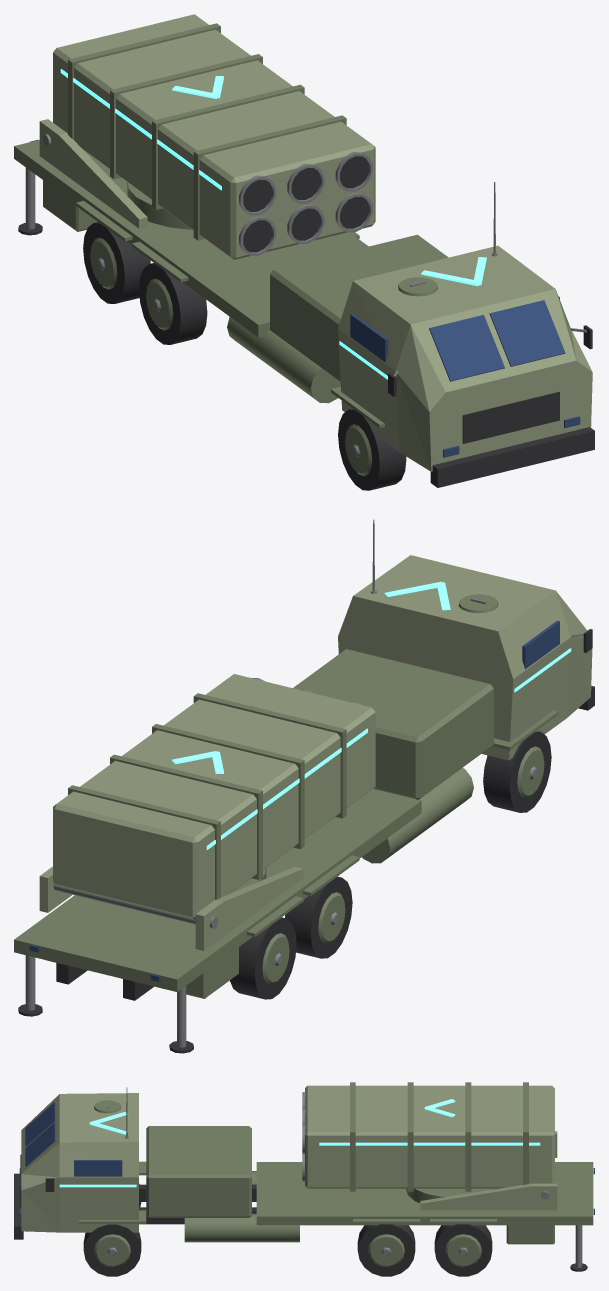
Rendered from mlrs_blue.glb.
3 views of the same model, one above another, from view 1: azimuth 30°, elevation 25°; view 2: azimuth 150°, elevation 25°; view 3: azimuth 270°, elevation 25° (orthographic). The views are drawn at different scales.
Visible parts, largest first — view 1: body, gun, turret; view 2: body, gun, turret; view 3: body, gun, turret.
Part boxes in pixels (<box>): body: <box>14,139,594,490</box>; gun: <box>53,14,375,259</box>; turret: <box>39,119,191,229</box>; body: <box>14,519,594,1053</box>; gun: <box>53,674,375,919</box>; turret: <box>39,866,303,950</box>; body: <box>14,1087,594,1276</box>; gun: <box>302,1082,554,1191</box>; turret: <box>406,1131,557,1210</box>.
Bounding box in the file's own units: 3.28 × 4.14 × 12.09.
